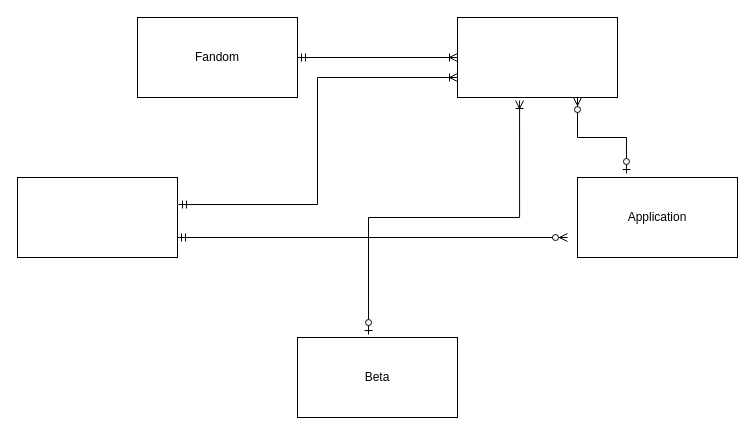
Some shapes in this 755 by 435 pixel diagram are drawn without their labels. The shapes that lost their labels are listed below. From the top down, each one's box as (x1, y1, x2, y2) in pixels, then its label:
(456, 16, 618, 98): Fanfics
(16, 176, 178, 258): Author
